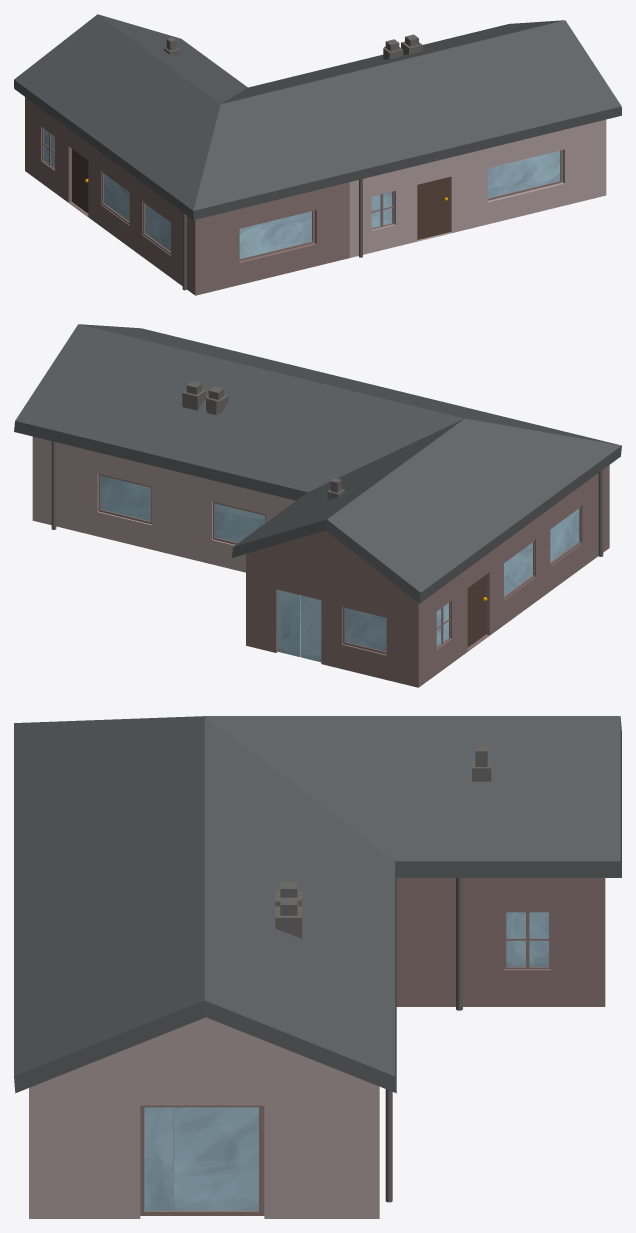
Rendered from TPCS_House_005_V1.fbx.
3 renders of one model, top to bottom at view 1: azimuth 30°, elevation 25°; view 2: azimuth 150°, elevation 25°; view 3: azimuth 270°, elevation 25°, orthographic. The views are drawn at different scales.
Parts seen in each view (by area): view 1: Cube.153; view 2: Cube.153; view 3: Cube.153.
Part boxes in pixels (x1,y1,x2,y2): Cube.153: [14, 14, 621, 295]; Cube.153: [14, 324, 621, 687]; Cube.153: [14, 716, 621, 1218].
Bounding box in the file's own units: 1262 × 379 × 916.
